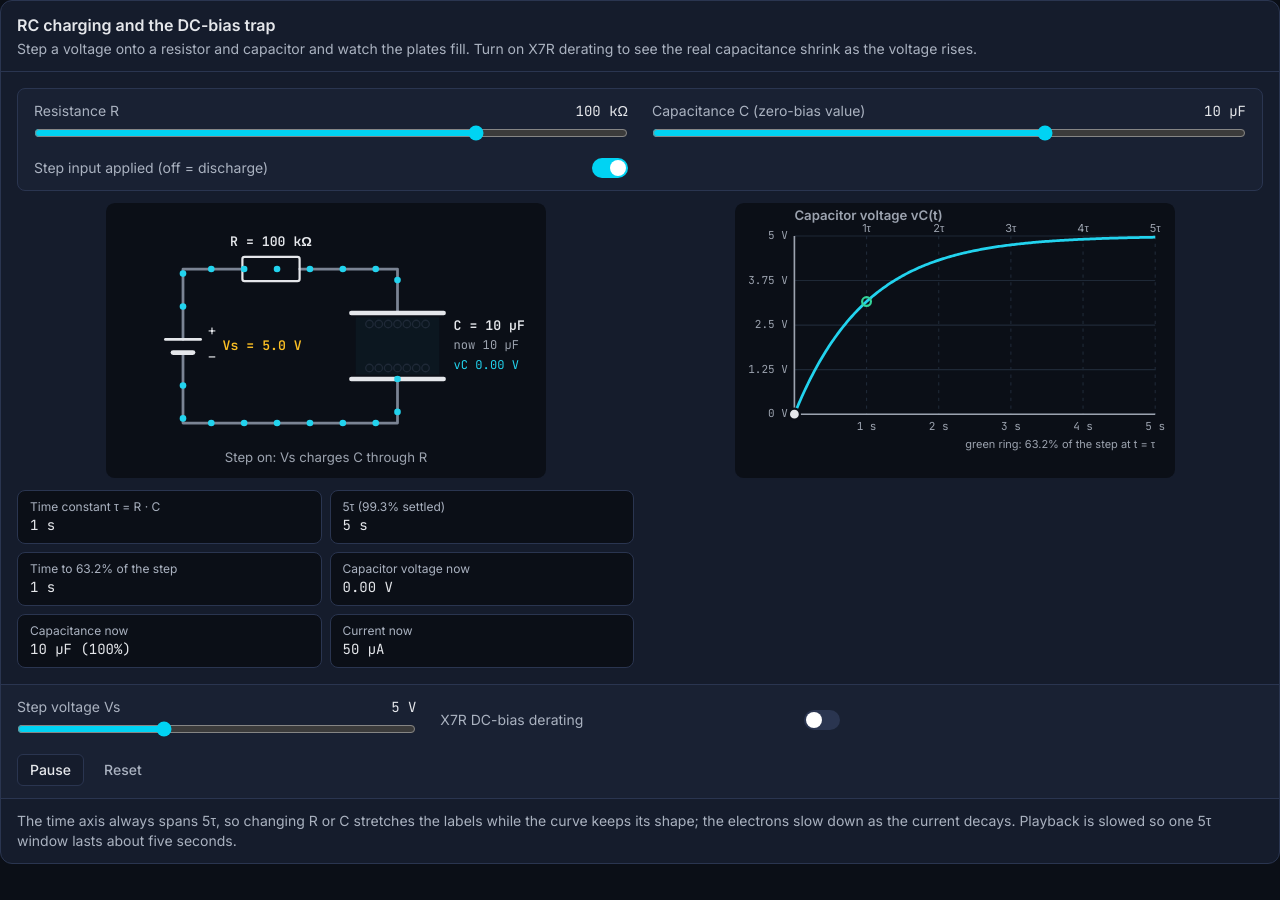
Test: RcCharging › X7R derating makes the real capacitor smaller, so 63.2% arrives before τ
The image size is (1280, 900).
Step 1. Click the switch labelled "X7R DC-bias derating" → (512,719), box [440,697,840,742]
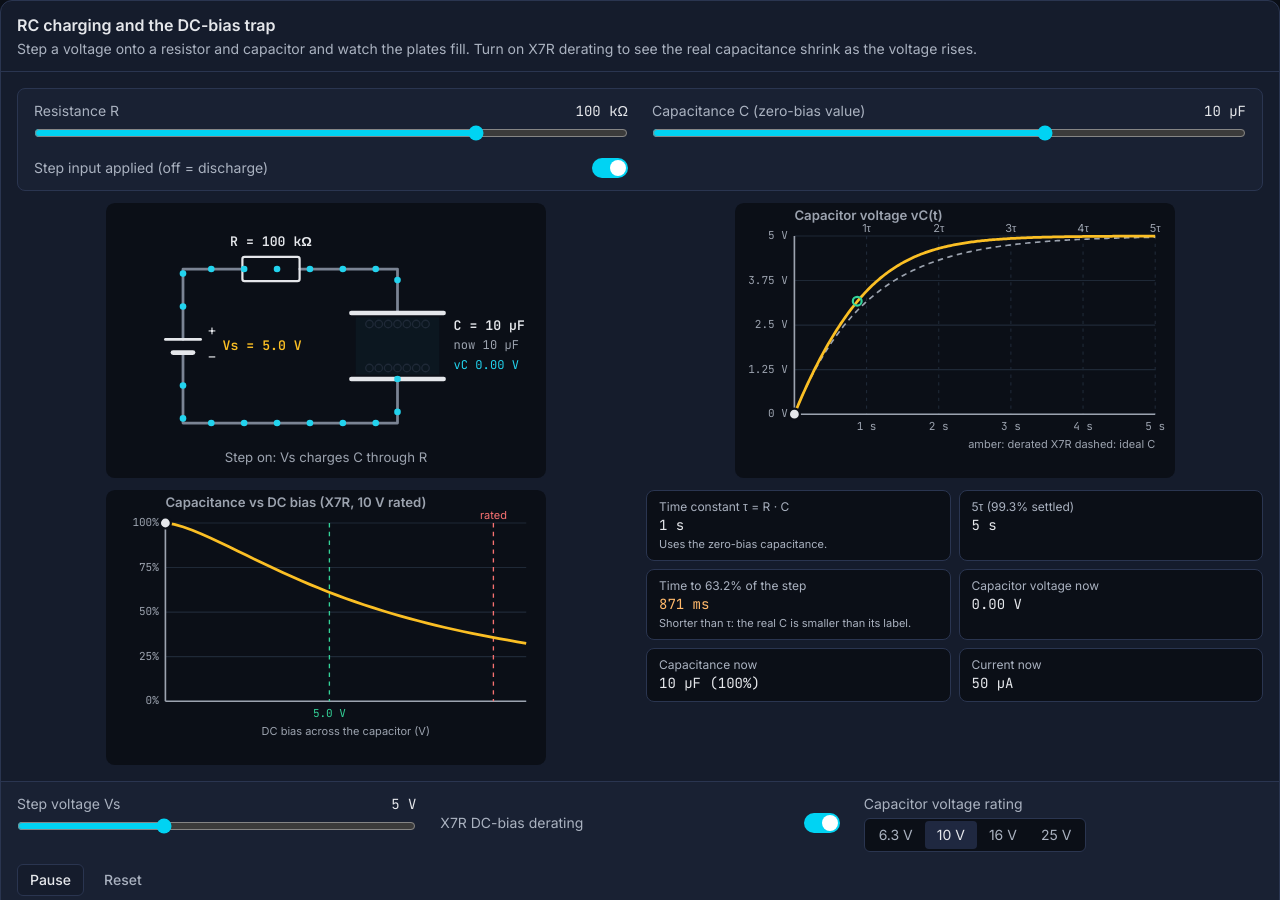
Check: the text "871 ms" is shown, box [659,595,709,613]
Step 2. Click the radio button labelled "6.3 V" → (896,835), box [867,821,925,849]
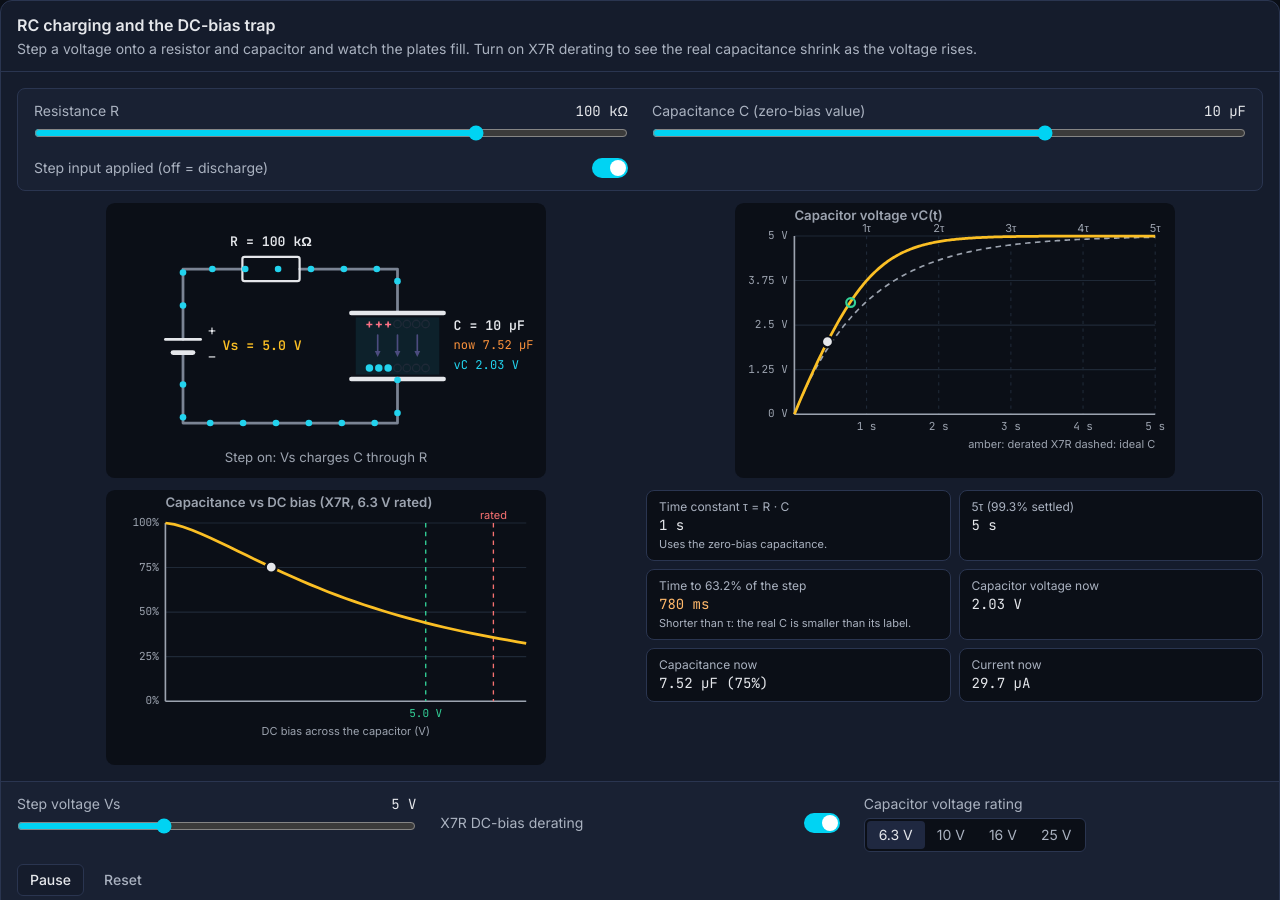
Check: the text "780 ms" is shown, box [659,595,709,613]
